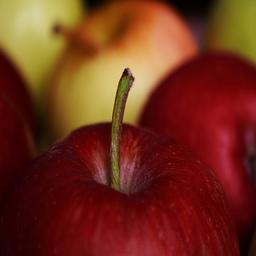apple: (9, 120, 240, 256)
